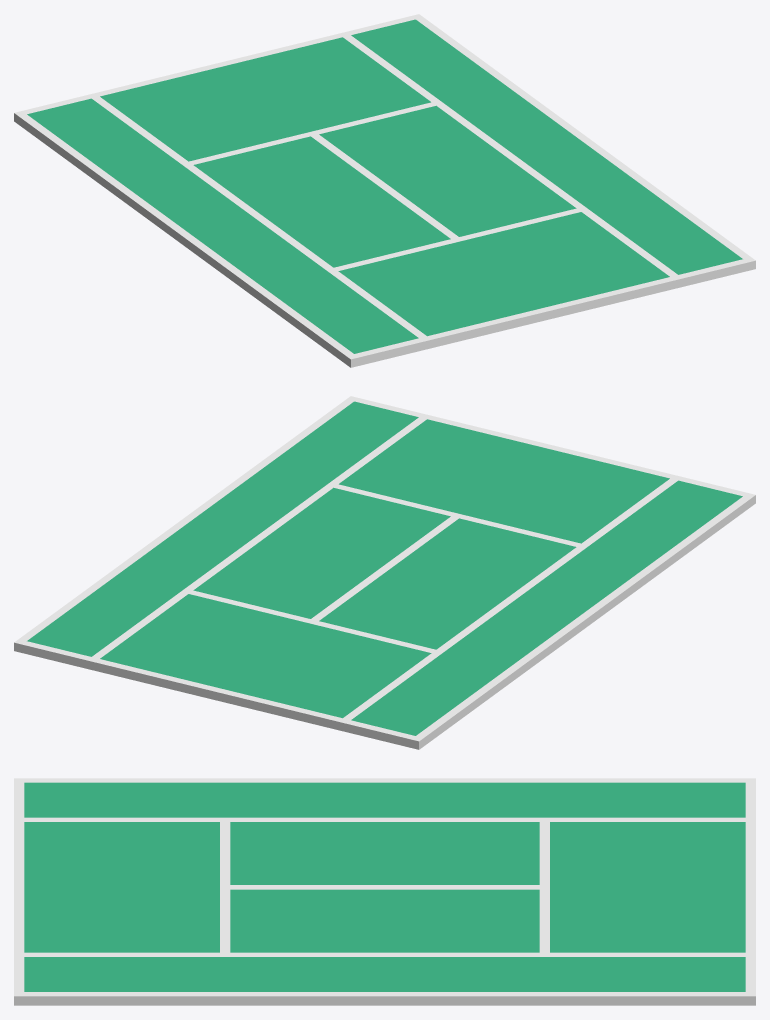
Rendered from Court4.fbx.
The picture shows the model from 3 angles, top to bottom: view 1: azimuth 30°, elevation 25°; view 2: azimuth 150°, elevation 25°; view 3: azimuth 270°, elevation 25°; orthographic projection. The views are drawn at different scales.
Visible parts, largest first — view 1: mergedBlocks; view 2: mergedBlocks; view 3: mergedBlocks.
Boxes of the visible parts, box(x1,y1,x2,y2) form: mergedBlocks: box(14, 14, 755, 367); mergedBlocks: box(14, 396, 755, 749); mergedBlocks: box(14, 778, 755, 1005).
Bounding box in the file's own units: 50 × 1 × 72.
